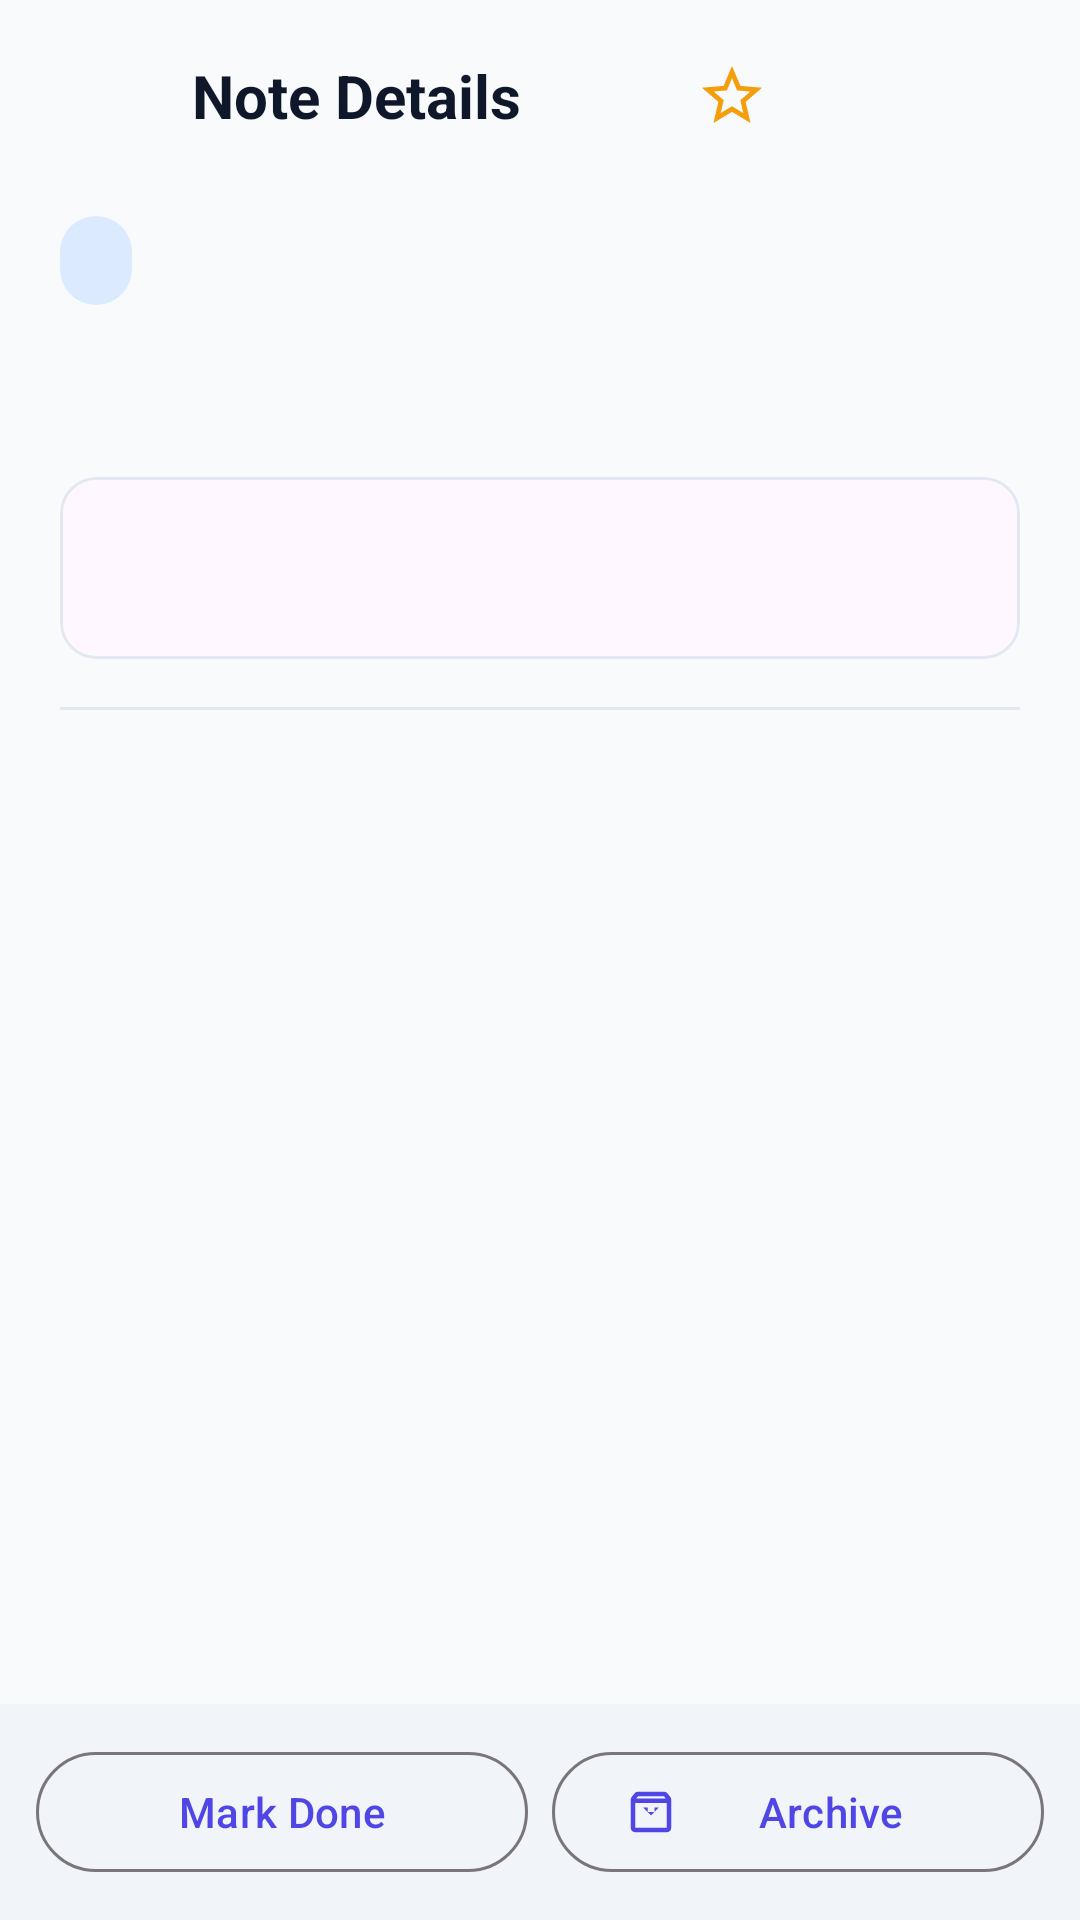

Screen size 1080px×1920px. Icon name, then its box in pixels as [x1,y1,x2,y2]:
Favorite: [702,66,762,123]
